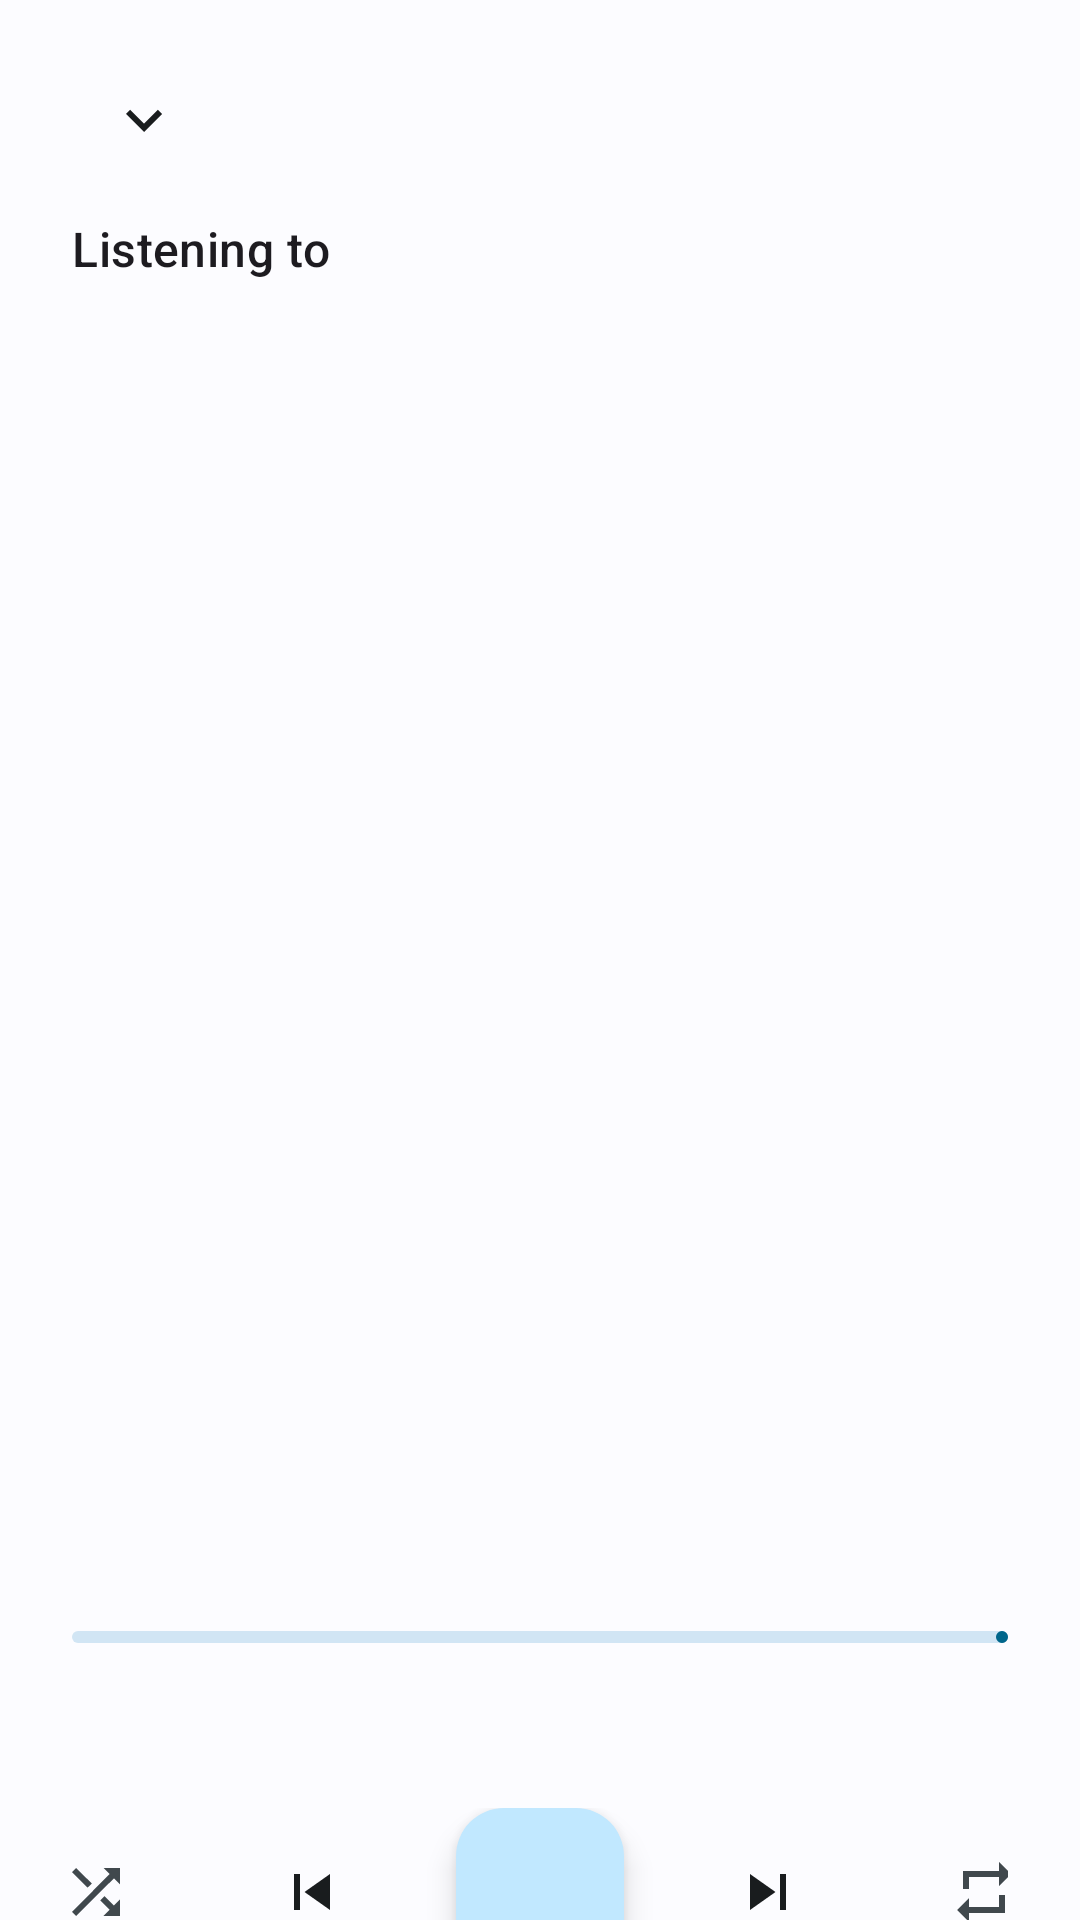

Named icons in this screenshot (1080*1920) and their bounding boxes, (x1, y1, x2, y2):
chevron down: (126, 110, 162, 132)
